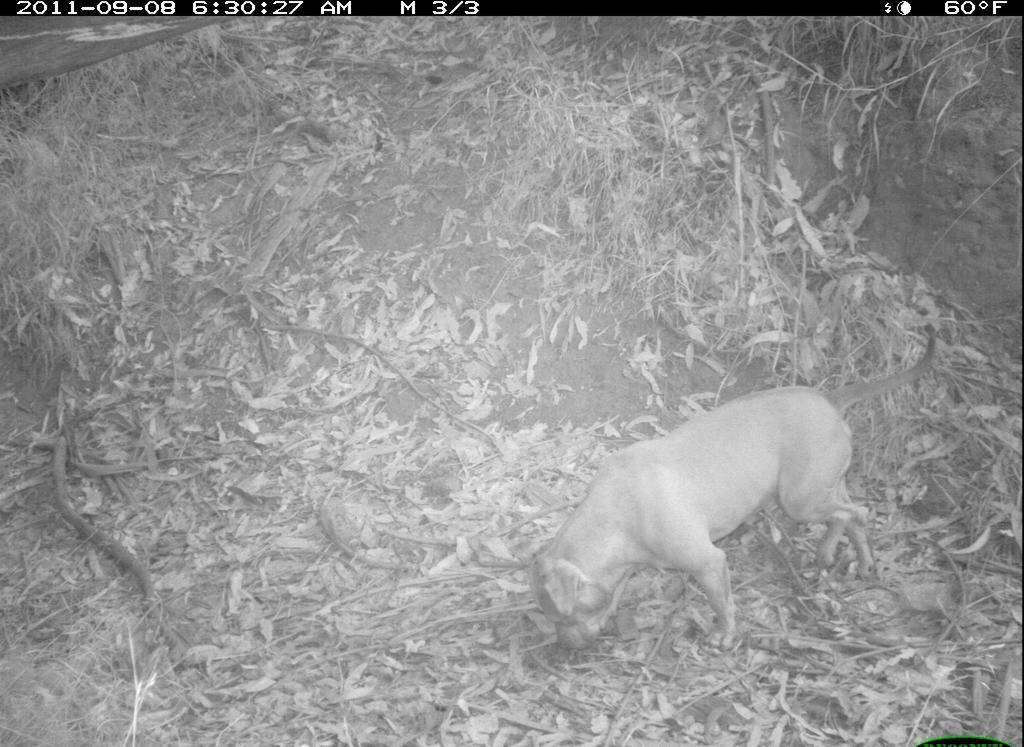dog: (527, 322, 945, 658)
